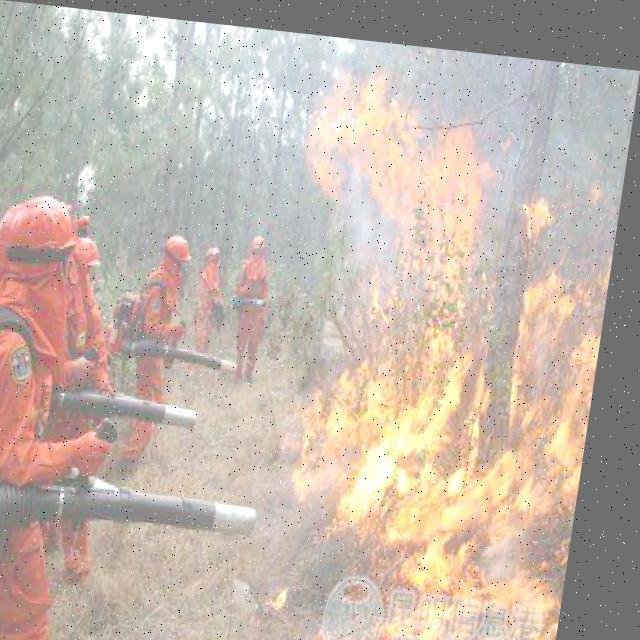Fire: (253, 65, 632, 639)
